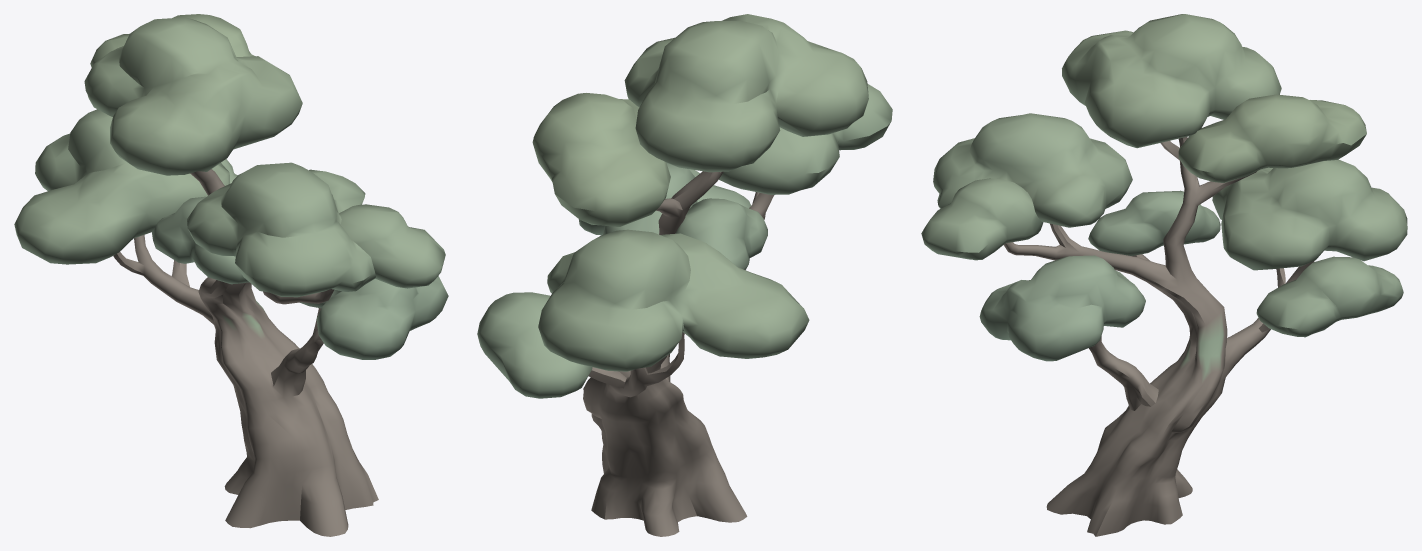
Rendered from huai_tree.glb.
3 views of the same model, side by side, from view 1: azimuth 30°, elevation 25°; view 2: azimuth 150°, elevation 25°; view 3: azimuth 270°, elevation 25° (orthographic). The views are drawn at different scales.
Visible parts, largest first — view 1: asset; view 2: asset; view 3: asset.
Part boxes in pixels (x1,y1,x2,y2): asset: [14, 14, 448, 536]; asset: [477, 14, 892, 536]; asset: [921, 14, 1407, 536].
Bounding box in the file's own units: 0.6654 × 1 × 0.9893.
